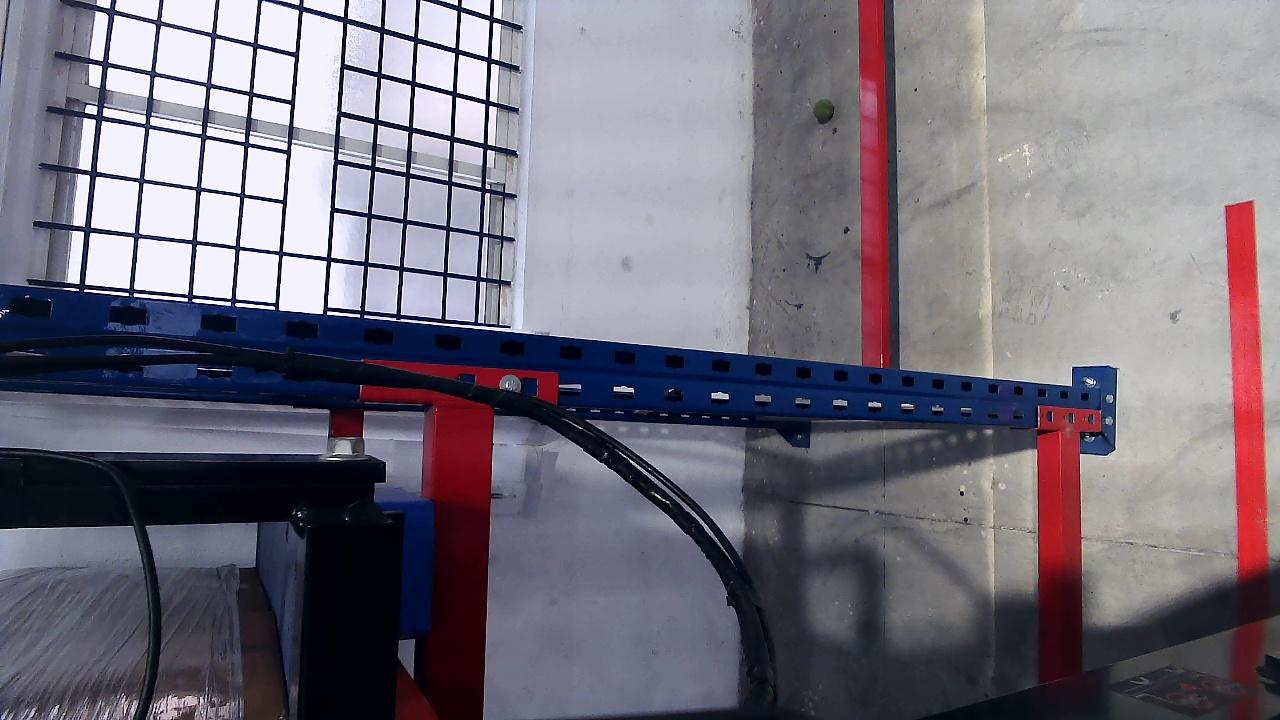h_rack: (427, 406, 494, 716), (1054, 431, 1086, 672)
red_line: (1224, 201, 1270, 572)
